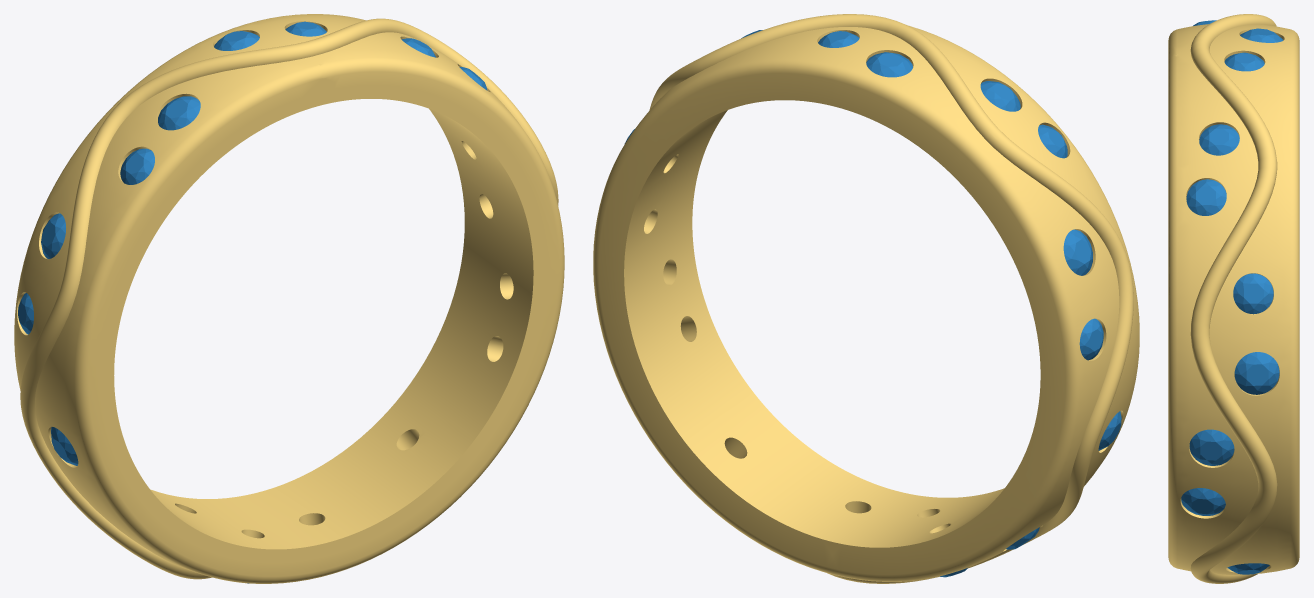
Rendered from AlexYGtealsapph.glb.
3 renders of one model, left to right at view 1: azimuth 30°, elevation 25°; view 2: azimuth 150°, elevation 25°; view 3: azimuth 270°, elevation 25°, orthographic. The views are drawn at different scales.
Parts seen in each view (by area): view 1: Alex YG for 3d model, Alex teal sapphire for 3d model.015, Alex teal sapphire for 3d model.014, Alex teal sapphire for 3d model.013; view 2: Alex YG for 3d model, Alex teal sapphire for 3d model.013, Alex teal sapphire for 3d model.017, Alex teal sapphire for 3d model.015, Alex teal sapphire for 3d model.011; view 3: Alex YG for 3d model, Alex teal sapphire for 3d model.003, Alex teal sapphire for 3d model.002, Alex teal sapphire for 3d model.004, Alex teal sapphire for 3d model, Alex teal sapphire for 3d model.001, Alex teal sapphire for 3d model.005, Alex teal sapphire for 3d model.016, Alex teal sapphire for 3d model.017, Alex teal sapphire for 3d model.006.
Boxes of the visible parts, bbox=[...] form: Alex YG for 3d model: bbox=[14, 14, 564, 583]; Alex teal sapphire for 3d model.015: bbox=[158, 96, 200, 130]; Alex teal sapphire for 3d model.014: bbox=[120, 148, 154, 184]; Alex teal sapphire for 3d model.013: bbox=[41, 213, 65, 258]; Alex YG for 3d model: bbox=[593, 14, 1139, 583]; Alex teal sapphire for 3d model.013: bbox=[1063, 229, 1092, 275]; Alex teal sapphire for 3d model.017: bbox=[866, 52, 912, 77]; Alex teal sapphire for 3d model.015: bbox=[980, 81, 1020, 111]; Alex teal sapphire for 3d model.011: bbox=[1079, 318, 1103, 360]; Alex YG for 3d model: bbox=[1168, 14, 1299, 583]; Alex teal sapphire for 3d model.003: bbox=[1234, 352, 1279, 394]; Alex teal sapphire for 3d model.002: bbox=[1233, 273, 1273, 314]; Alex teal sapphire for 3d model.004: bbox=[1189, 429, 1234, 465]; Alex teal sapphire for 3d model: bbox=[1186, 179, 1226, 215]; Alex teal sapphire for 3d model.001: bbox=[1199, 124, 1239, 155]; Alex teal sapphire for 3d model.005: bbox=[1181, 488, 1225, 515]; Alex teal sapphire for 3d model.016: bbox=[1224, 52, 1264, 71]; Alex teal sapphire for 3d model.017: bbox=[1240, 28, 1283, 42]; Alex teal sapphire for 3d model.006: bbox=[1227, 563, 1269, 574].
Size of the model in its own units: 25.25 by 25.06 by 5.8.
